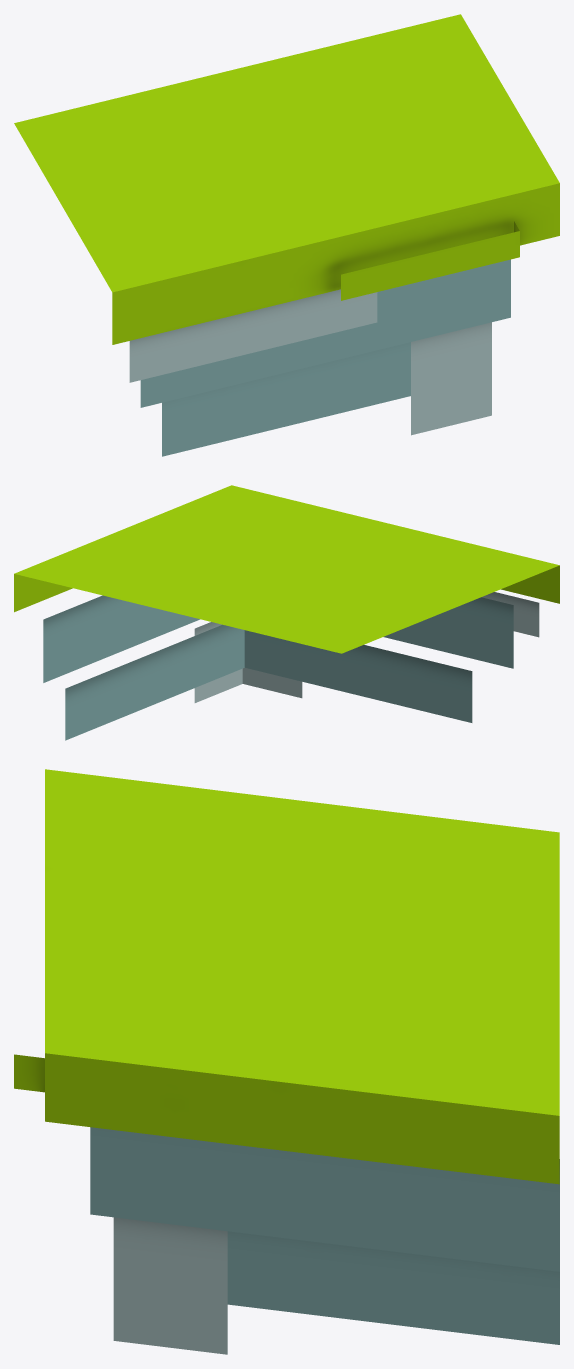
The model's file is Field_Type_03_04.FBX.
The picture shows the model from 3 angles, top to bottom: view 1: azimuth 30°, elevation 25°; view 2: azimuth 150°, elevation 25°; view 3: azimuth 270°, elevation 25°; orthographic projection. The views are drawn at different scales.
Parts seen in each view (by area): view 1: Field_Type_03_04; view 2: Field_Type_03_04; view 3: Field_Type_03_04.
Boxes of the visible parts, bbox=[...] form: Field_Type_03_04: bbox=[14, 14, 559, 456]; Field_Type_03_04: bbox=[14, 485, 559, 740]; Field_Type_03_04: bbox=[14, 769, 559, 1354].
Size of the model in its own units: 17.21 by 7.26 by 11.45.
